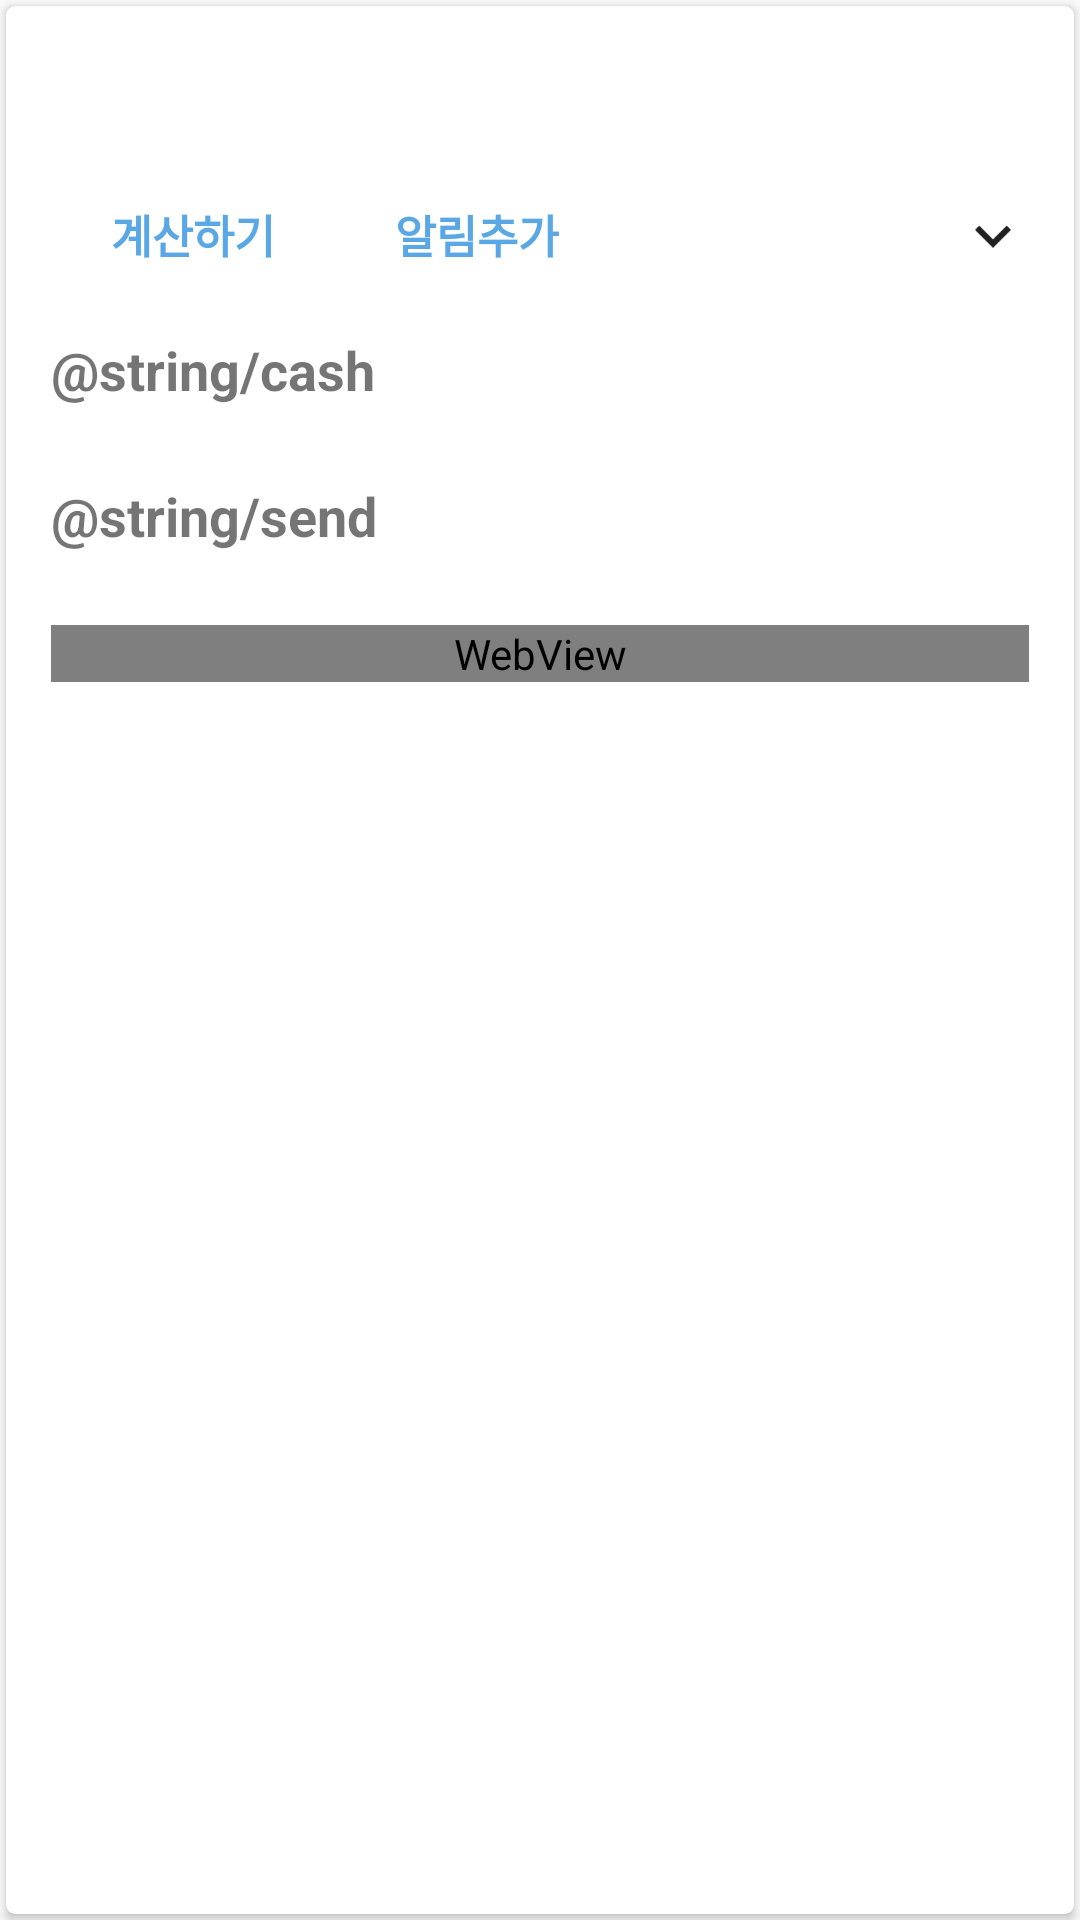

Named icons in this screenshot (1080 × 1920) and their bounding boxes, [x1=x1, y1=y1, x2=x2, y2=y2]:
keyboard arrow down: [x1=975, y1=225, x2=1011, y2=248]
